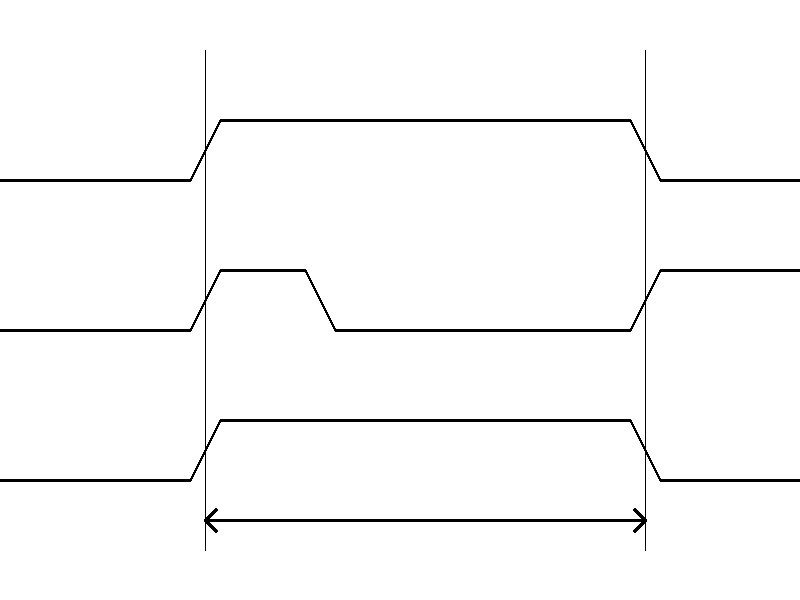double_arrow: (205, 505, 645, 535)
